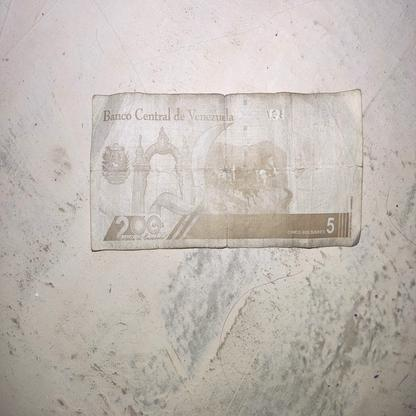five-back-vef: (89, 89, 363, 251)
